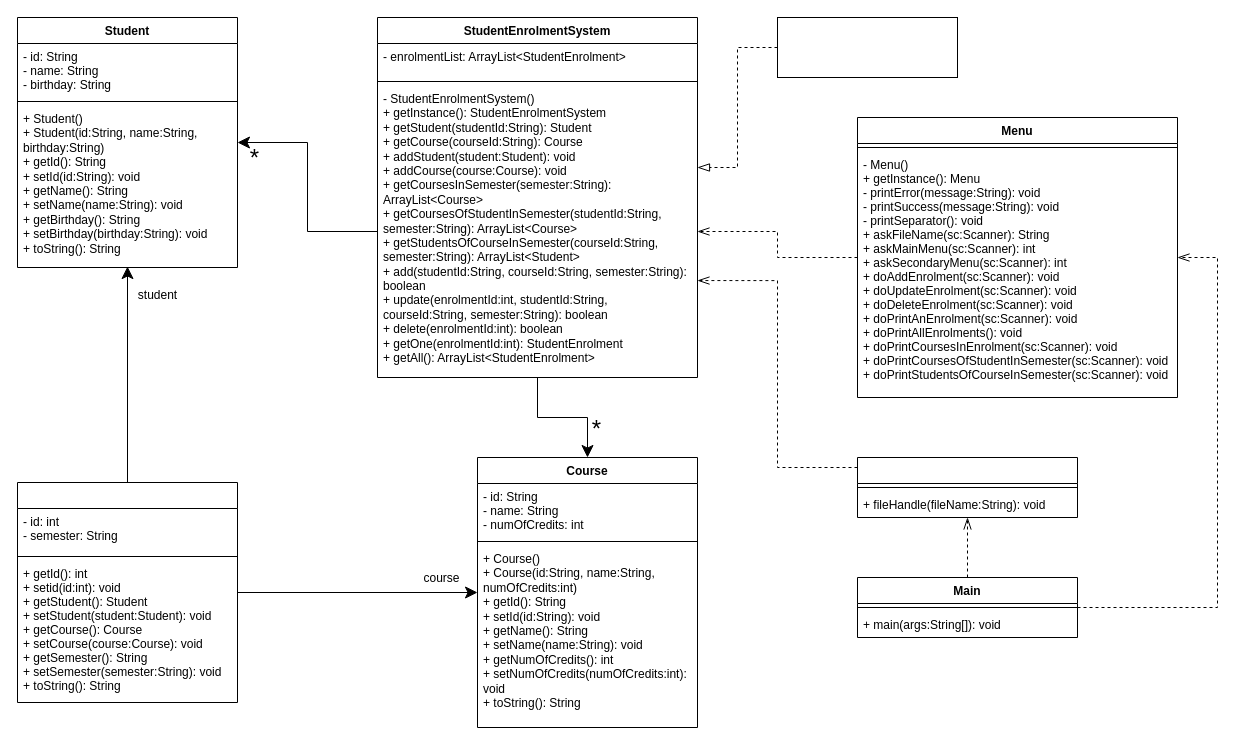
Image size: 1247x748. Some labels were removed from this diagram. The box of each missing label's shape, as (x1, y1, x2, y2) in pixels:
FileHandling: (856, 456, 1078, 518)
StudentEnrolment: (16, 482, 238, 702)
«interface» StudentEnrolmentManager: (776, 16, 958, 78)
